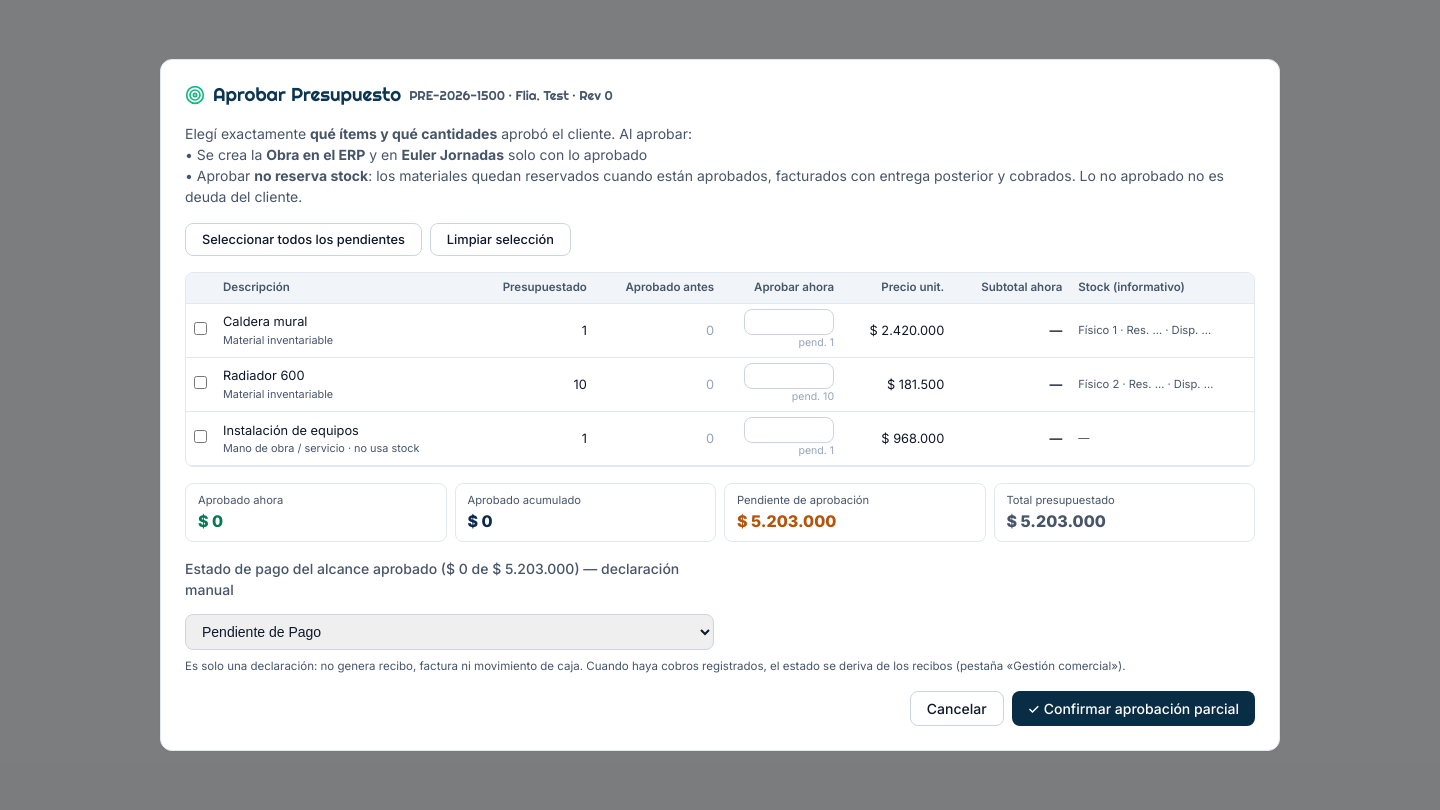
Pop-up «Aprobar Presupuesto» ampliado › doble clic en confirmar registra una sola vez, con el mismo id y solo lo elegido
In the number field in the row of "Caldera mural": (789, 322) [744, 309, 834, 335], type "1"
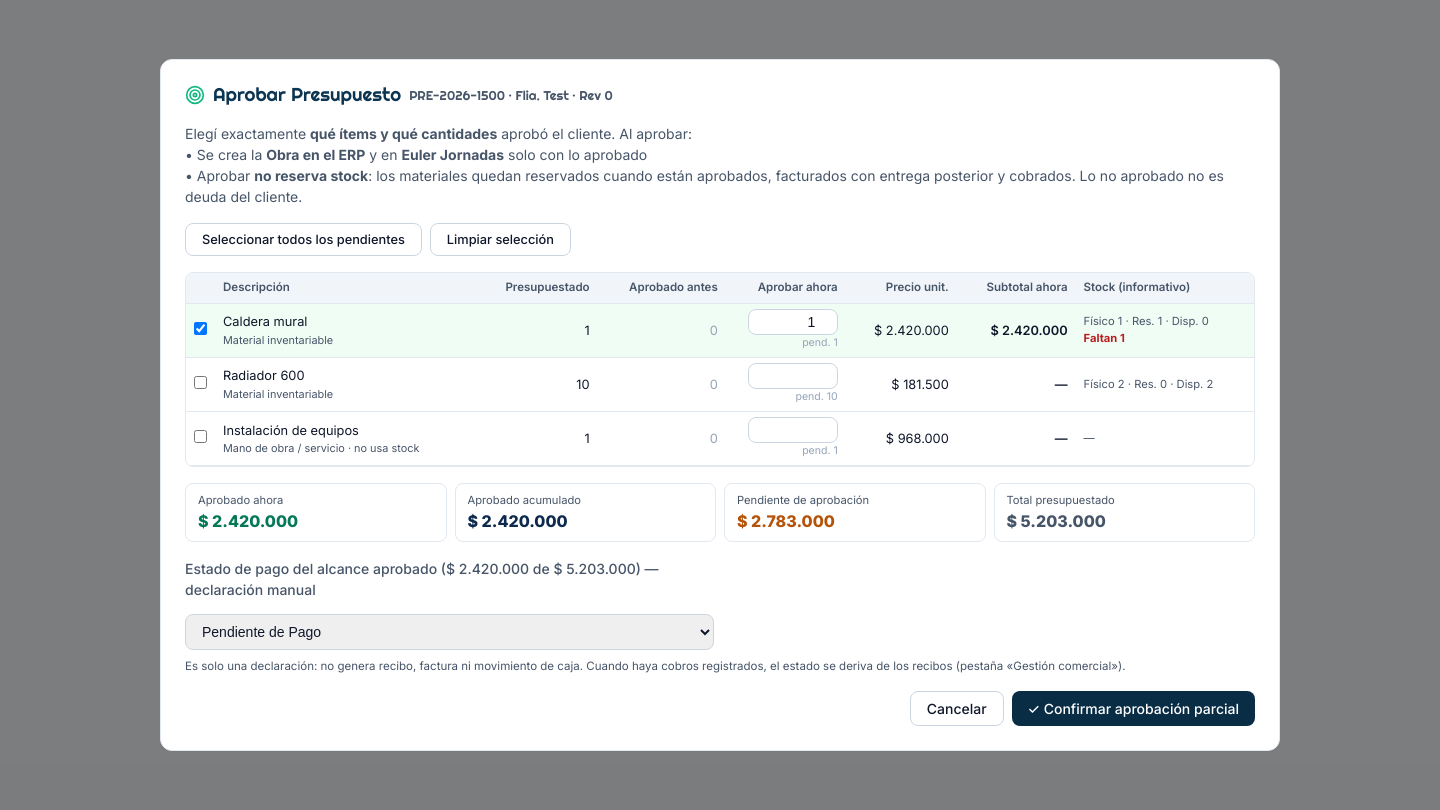
Click the button "✓ Confirmar aprobación parcial": (1133, 708) [1012, 691, 1255, 726]
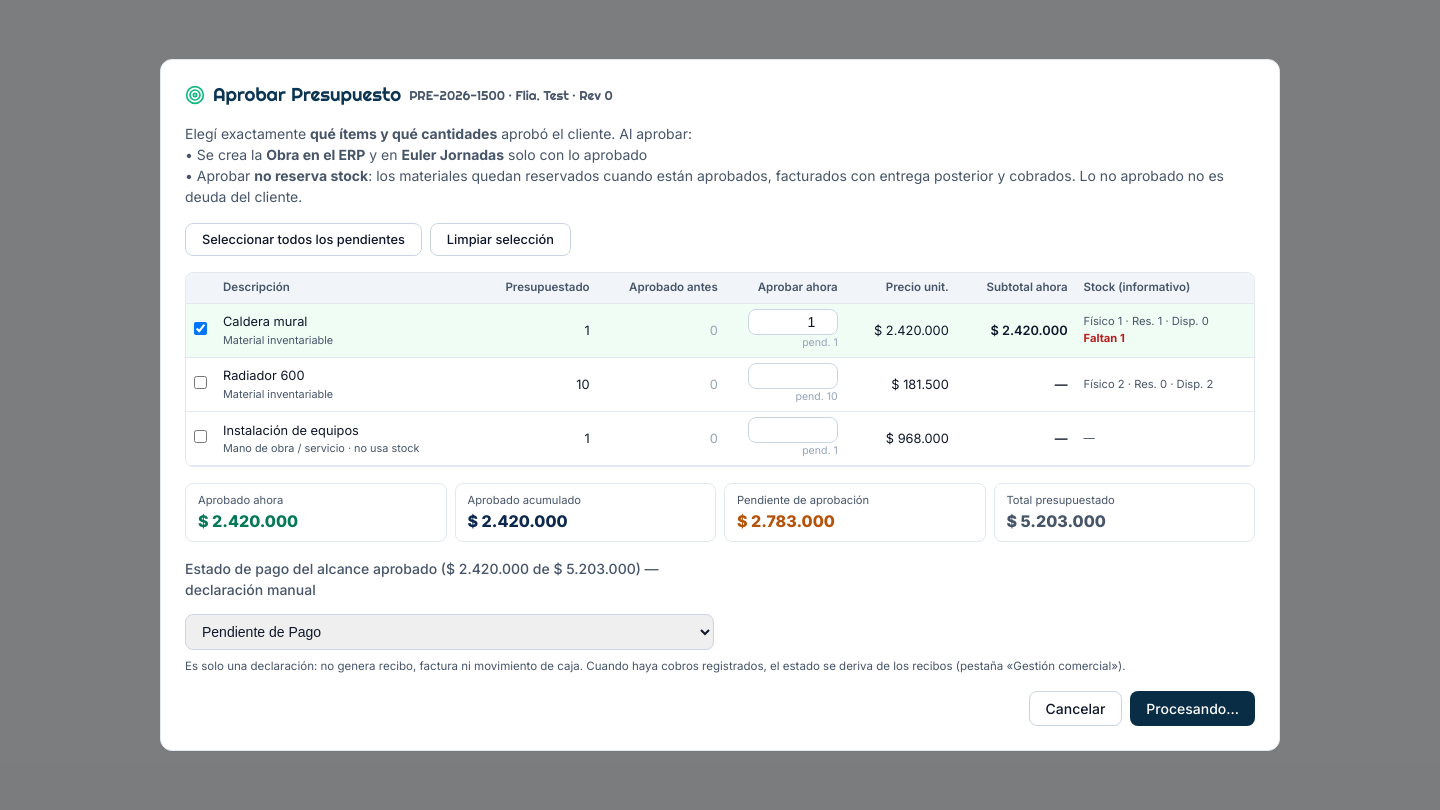
Click the button named "Confirmar aprobación parcial": (1193, 708) [1130, 691, 1255, 726]
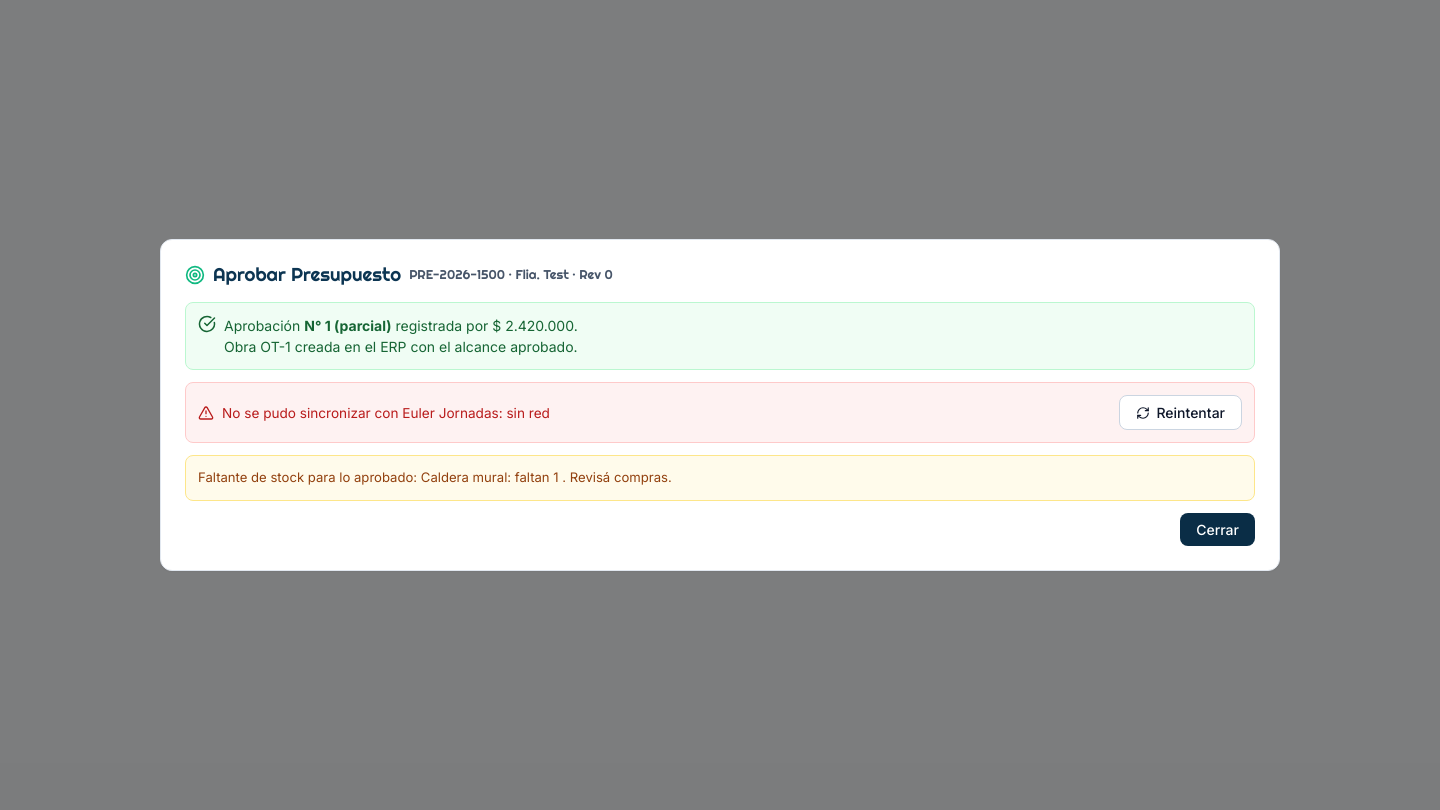
Expected: the text "No se pudo sincronizar con Euler Jornadas" is shown, [222, 405, 506, 421]
Expected: the button "Reintentar" is shown, [1120, 395, 1242, 430]
